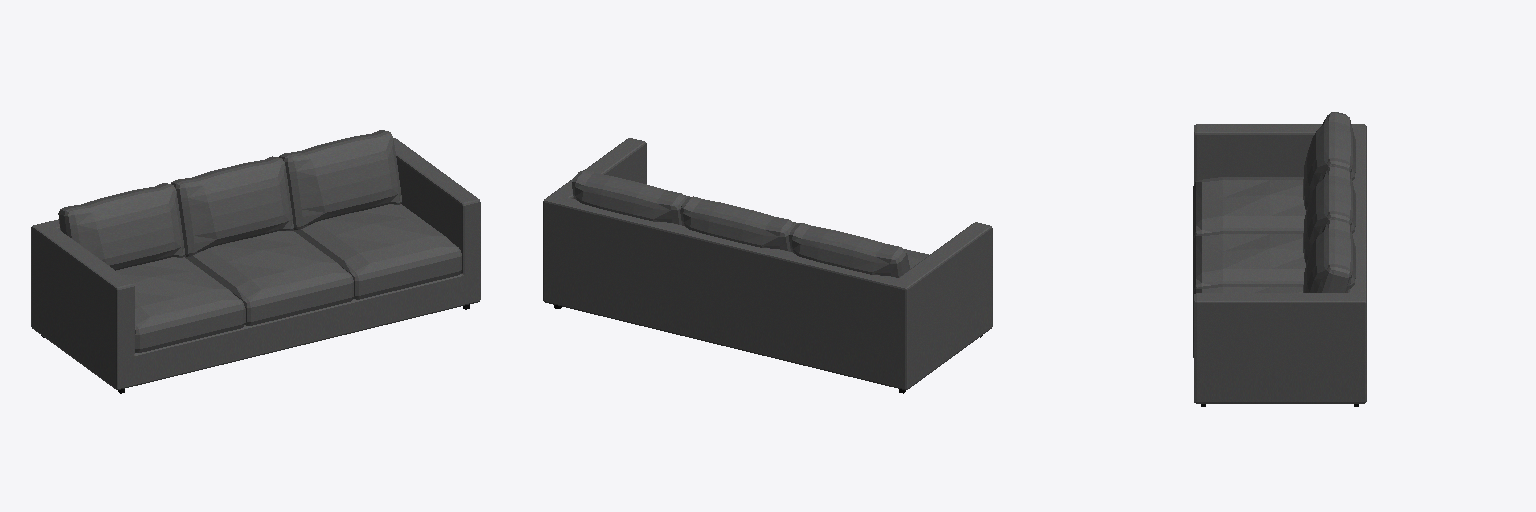
3 views of the same model, side by side, from view 1: azimuth 30°, elevation 25°; view 2: azimuth 150°, elevation 25°; view 3: azimuth 270°, elevation 25° (orthographic).
Parts seen in each view (by area): view 1: polySurface14; view 2: polySurface14; view 3: polySurface14.
Boxes of the visible parts, box(x1,y1,x2,y2) form: polySurface14: box(31, 130, 480, 393); polySurface14: box(543, 138, 992, 393); polySurface14: box(1193, 112, 1366, 406).
Bounding box in the file's own units: 24.14 × 8.38 × 9.94.
Materials: 1 (1 with a texture image).